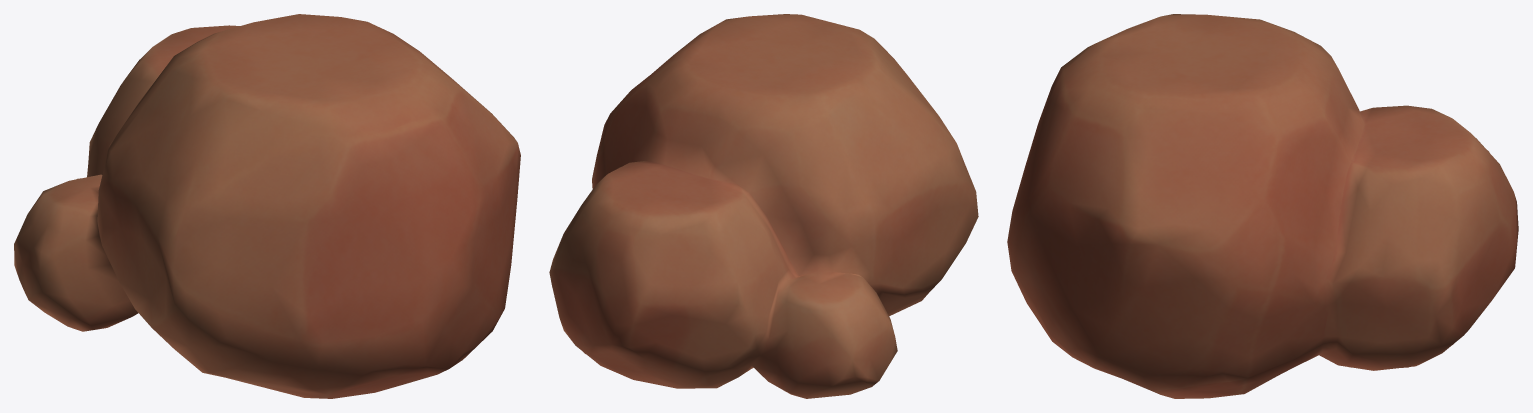
File: kamni-para.glb
3 views of the same model, side by side, from view 1: azimuth 30°, elevation 25°; view 2: azimuth 150°, elevation 25°; view 3: azimuth 270°, elevation 25° (orthographic). The views are drawn at different scales.
Visible parts, largest first — view 1: geometry_0; view 2: geometry_0; view 3: geometry_0.
Part boxes in pixels (x1,y1,x2,y2): geometry_0: [14, 14, 520, 398]; geometry_0: [549, 14, 978, 398]; geometry_0: [1007, 14, 1518, 398].
Bounding box in the file's own units: 0.8351 × 0.6581 × 1.
Materials: 1 (1 with a texture image).
